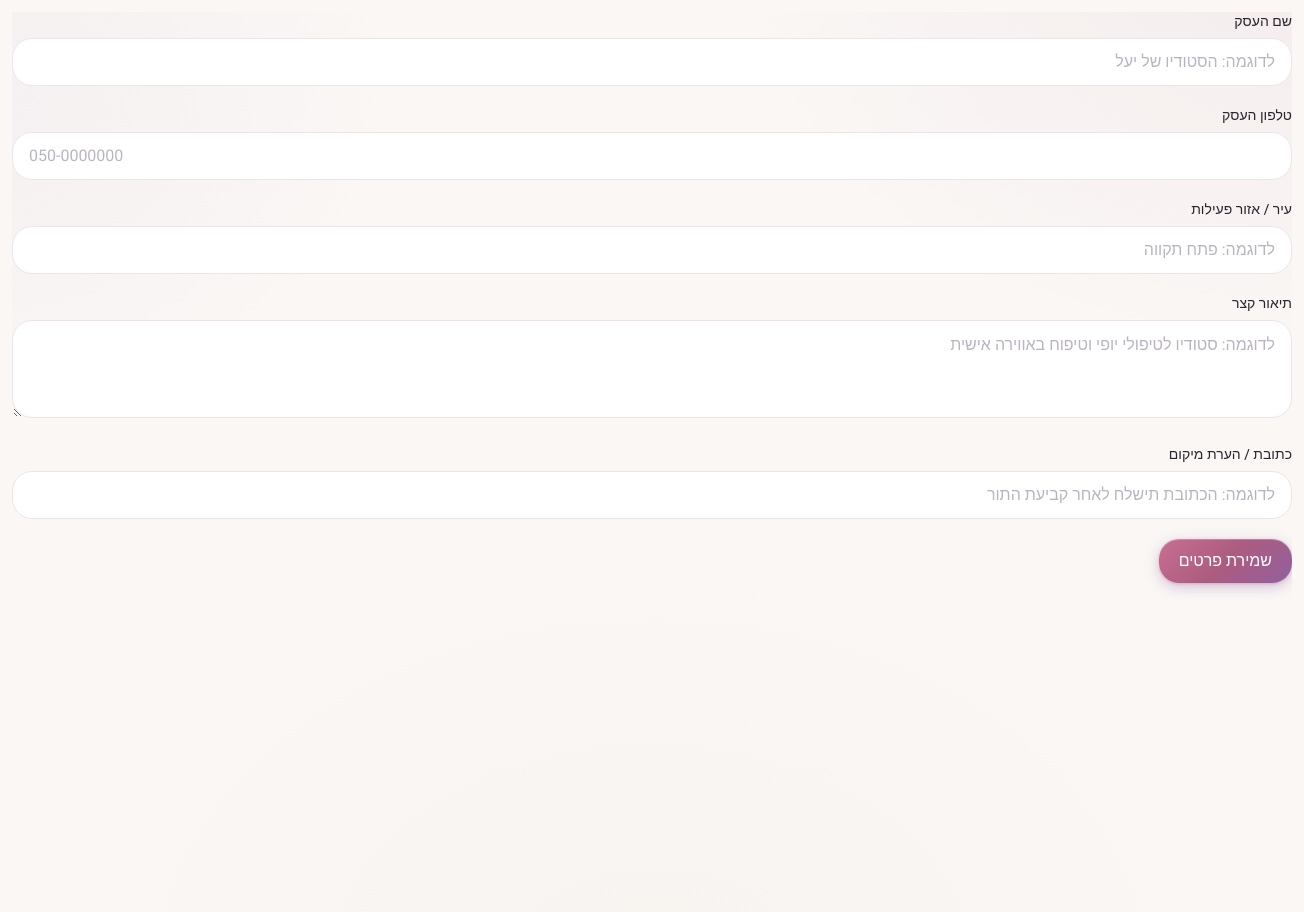
Test: BusinessDetailsForm › renders the form-level error and the success message
The width and height of the screenshot is (1304, 912).
Click the button "שמירת פרטים" at (1225, 561), box x1=1159 y1=539 x2=1292 y2=583
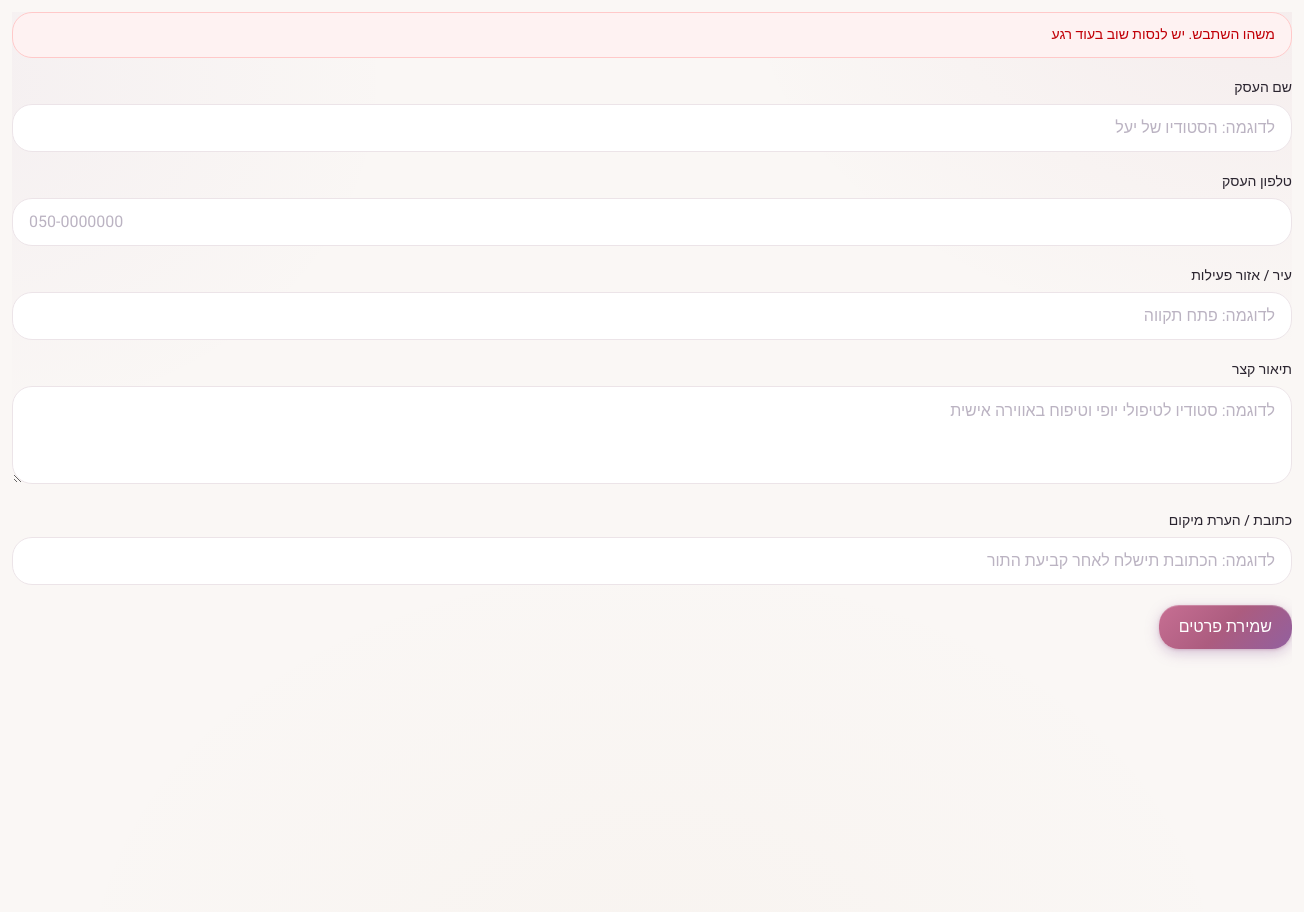
Check: the text "משהו השתבש. יש לנסות שוב בעוד רגע" is shown, box x1=12 y1=12 x2=1292 y2=58
